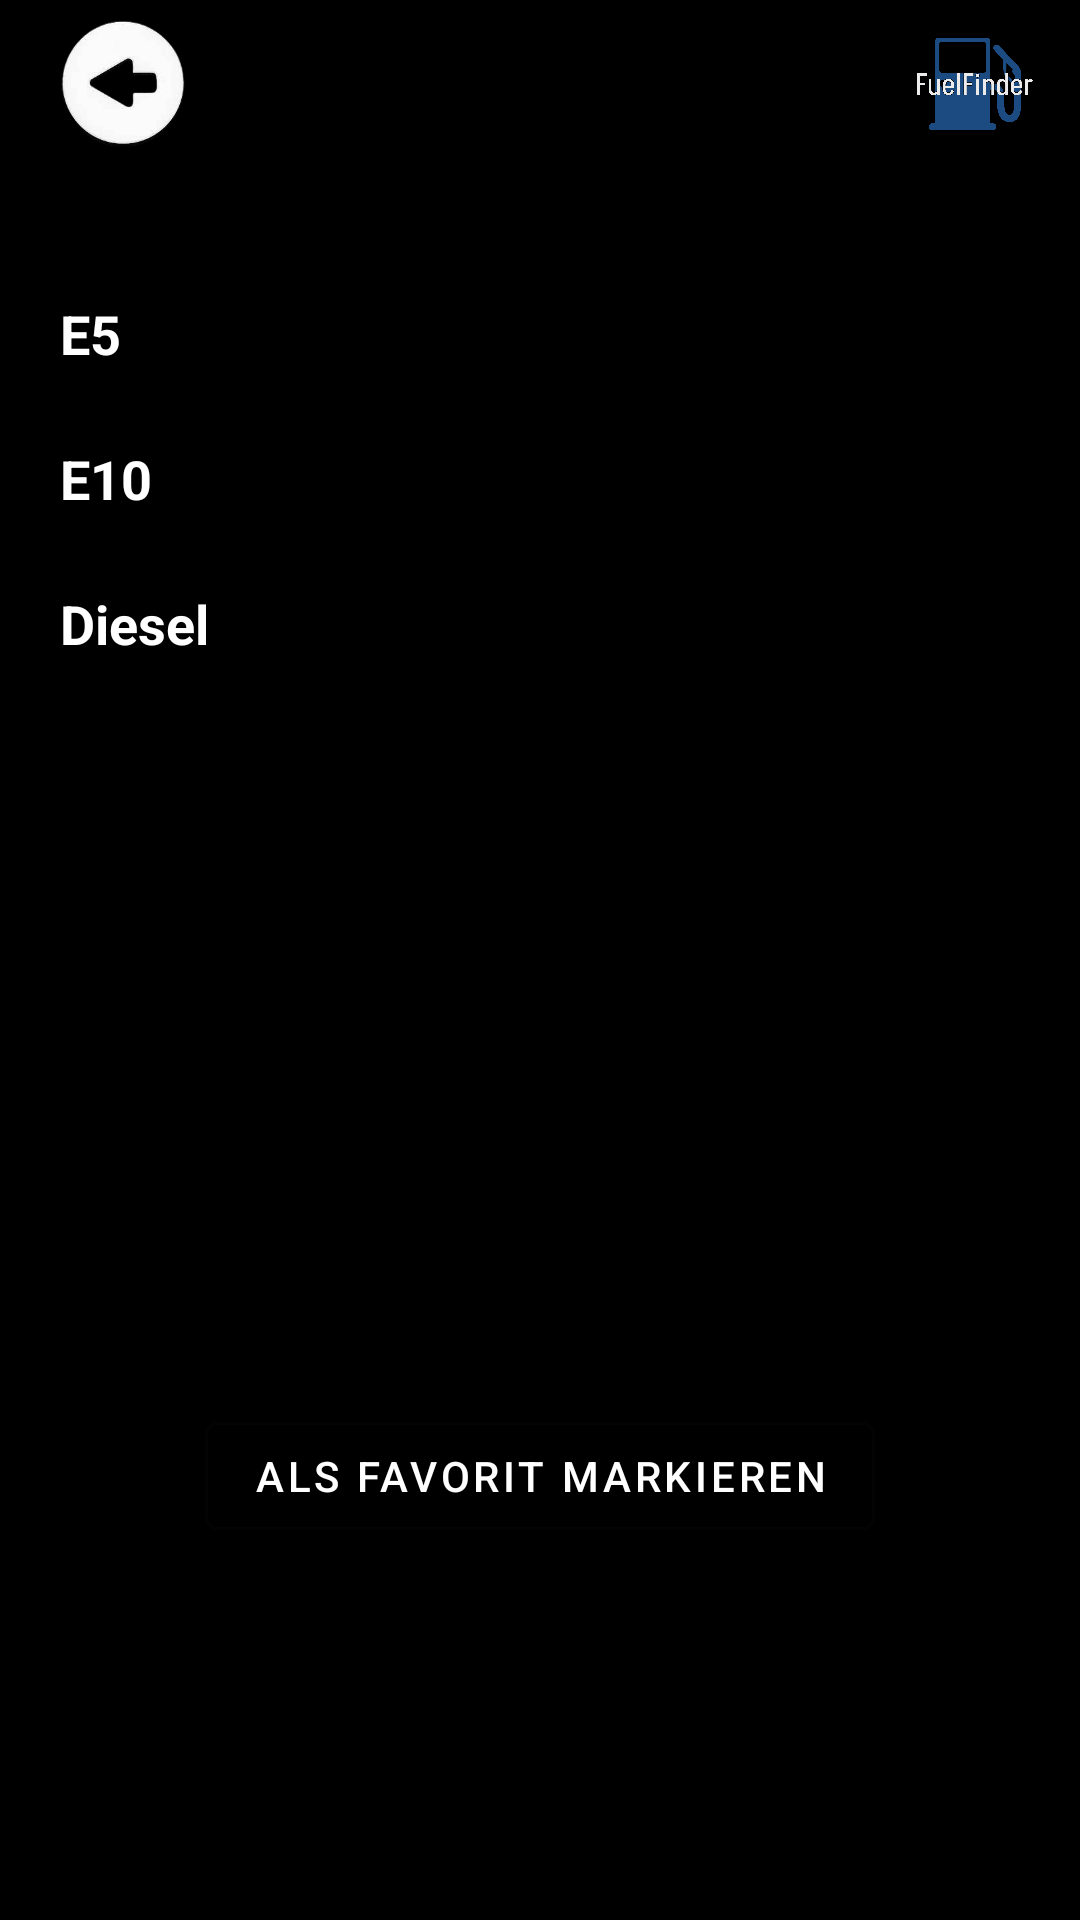

Icons on this 1080×1920 Android screen, each with the point to tap as point (x, y):
back: point (123, 82)
station: point (975, 84)
